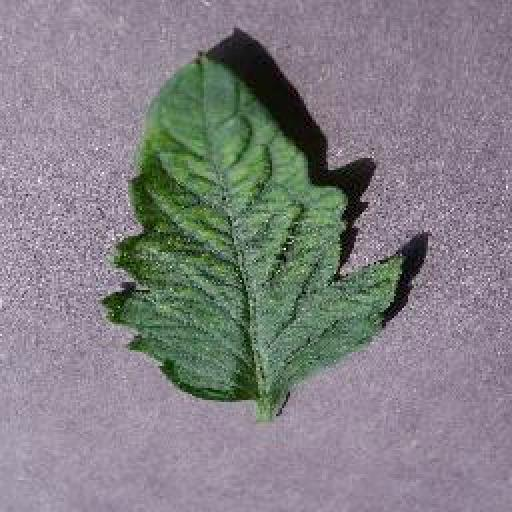Mosaic Virus: (102, 45, 406, 399)
